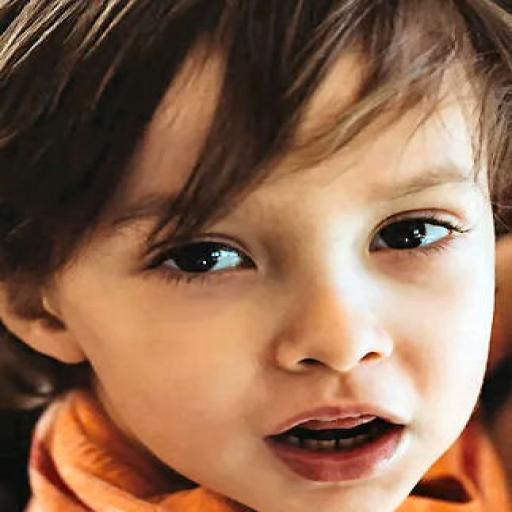Autism: (21, 9, 512, 512)
